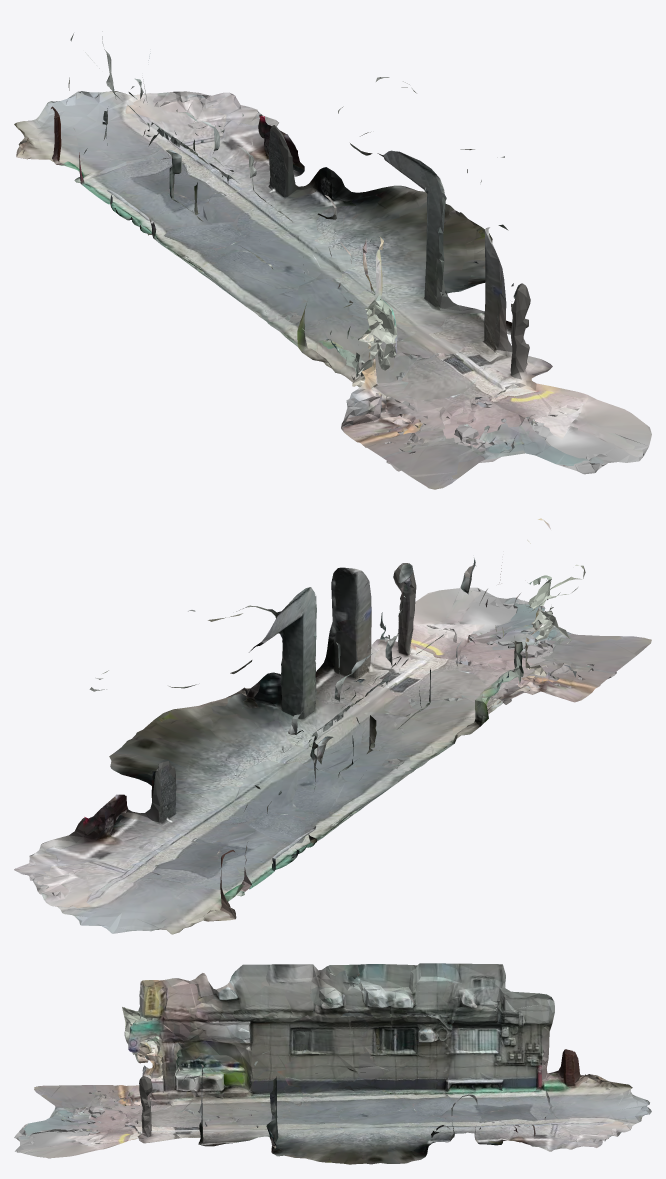
File: pack-6431.glb
The picture shows the model from 3 angles, top to bottom: view 1: azimuth 30°, elevation 25°; view 2: azimuth 150°, elevation 25°; view 3: azimuth 270°, elevation 25°; orthographic projection. The views are drawn at different scales.
Bounding box in the file's own units: 9.01 × 6.28 × 26.13.
Materials: 1 (1 with a texture image).
